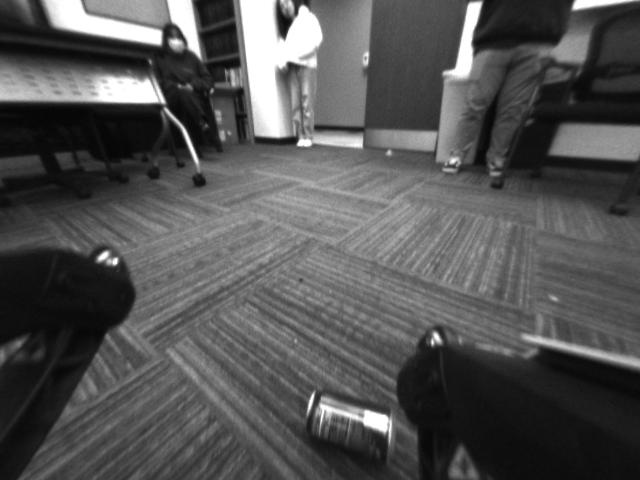can: (292, 384, 401, 476)
